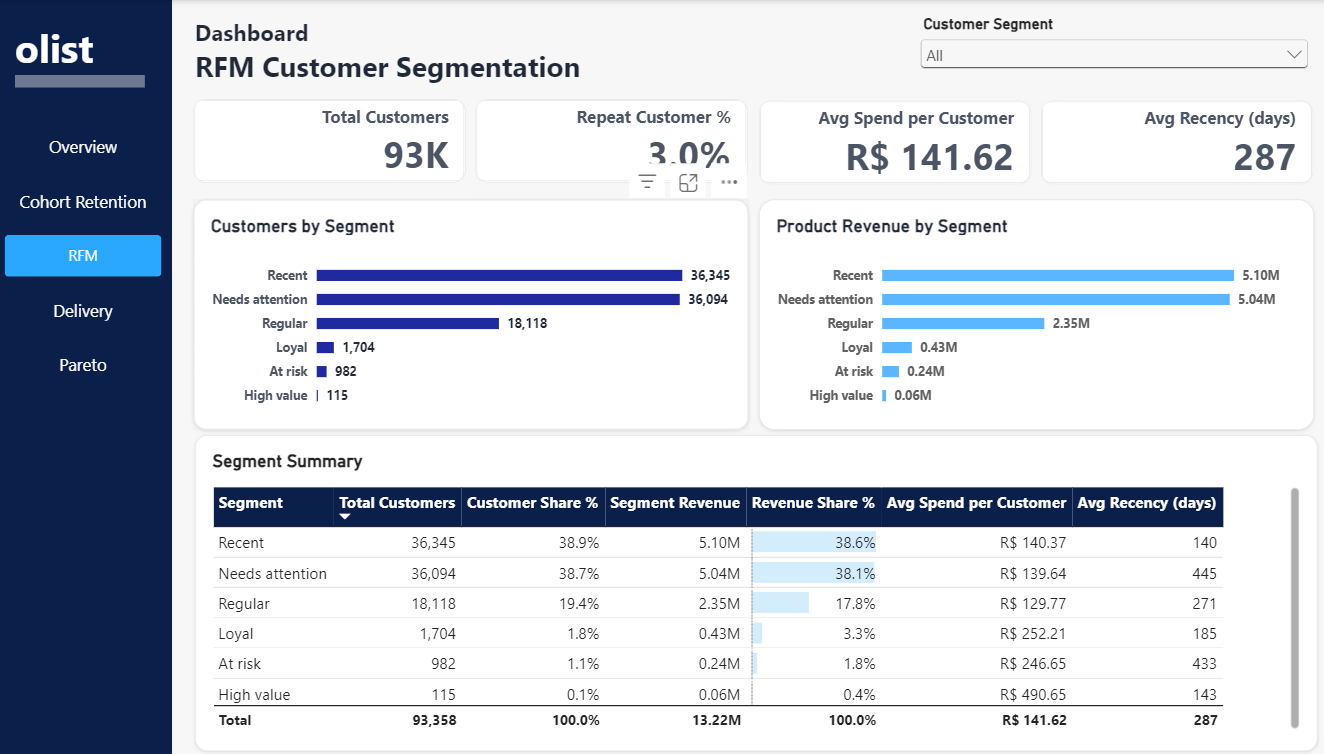

This screenshot's page, from the dashboard's own definition file:
{"tool":"powerbi","page":{"name":"RFM","canvas":[1280,720],"ordinal":2},"visuals":[{"type":"shape","box":[0,0,170,720],"z":0},{"type":"textbox","box":[20,20,160,64],"z":1000},{"type":"shape","box":[20,72,124,12],"z":2000},{"type":"pageNavigator","box":[10,120,150,250],"z":3000},{"type":"textbox","box":[192,16,480,70],"z":4000},{"type":"cardVisual","fields":{"Data":["rfm.Total Customers"]},"box":[190,95,260,80],"z":6000},{"type":"cardVisual","fields":{"Data":["rfm.Repeat Customer %"]},"box":[460,95,260,80],"z":7000},{"type":"cardVisual","fields":{"Data":["rfm.Avg Spend per Customer"]},"box":[730,96,260,80],"z":8000},{"type":"cardVisual","fields":{"Data":["rfm.Avg Recency (days)"]},"box":[1000,96,260,80],"z":9000},{"type":"clusteredBarChart","title":"Customers by Segment","fields":{"Category":["rfm.customer_segment"],"Y":["rfm.Total Customers"]},"box":[190,190,530,220],"z":9001},{"type":"clusteredBarChart","title":"Product Revenue by Segment","fields":{"Category":["rfm.customer_segment"],"Y":["rfm.Segment Revenue"]},"box":[730,190,530,220],"z":9002},{"type":"tableEx","title":"Segment Summary","fields":{"Values":["rfm.customer_segment","rfm.Total Customers","rfm.Customer Share %","rfm.Segment Revenue","rfm.Revenue Share %","rfm.Avg Spend per Customer","rfm.Avg Recency (days)"]},"box":[192,416,1072,302],"z":9003},{"type":"slicer","fields":{"Values":["rfm.customer_segment"]},"box":[880,15,380,70],"z":9004}]}

Visuals, with their boxes on the page's 1280x720 design canvas (x1, y1, x2, y2). These are canvas units, not pixel positions in the 1324x754 screenshot, which may show the page scaled, cropped or inside an application window:
shape: (left=0, top=0, right=170, bottom=720)
textbox: (left=20, top=20, right=180, bottom=84)
shape: (left=20, top=72, right=144, bottom=84)
pageNavigator: (left=10, top=120, right=160, bottom=370)
textbox: (left=192, top=16, right=672, bottom=86)
cardVisual - rfm.Total Customers: (left=190, top=95, right=450, bottom=175)
cardVisual - rfm.Repeat Customer %: (left=460, top=95, right=720, bottom=175)
cardVisual - rfm.Avg Spend per Customer: (left=730, top=96, right=990, bottom=176)
cardVisual - rfm.Avg Recency (days): (left=1000, top=96, right=1260, bottom=176)
"Customers by Segment" clusteredBarChart: (left=190, top=190, right=720, bottom=410)
"Product Revenue by Segment" clusteredBarChart: (left=730, top=190, right=1260, bottom=410)
"Segment Summary" tableEx: (left=192, top=416, right=1264, bottom=718)
slicer - rfm.customer_segment: (left=880, top=15, right=1260, bottom=85)
